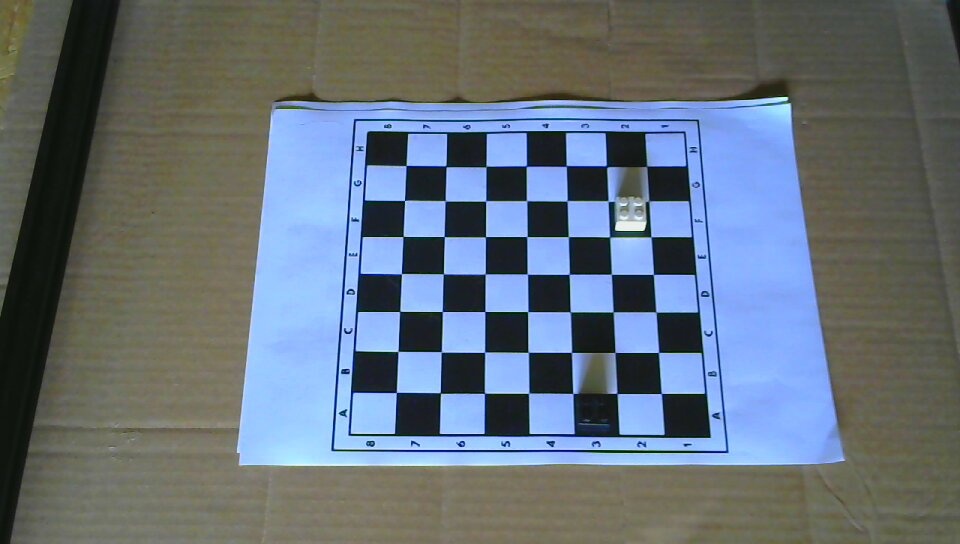bp: (576, 391, 614, 434)
wp: (613, 193, 649, 233)
